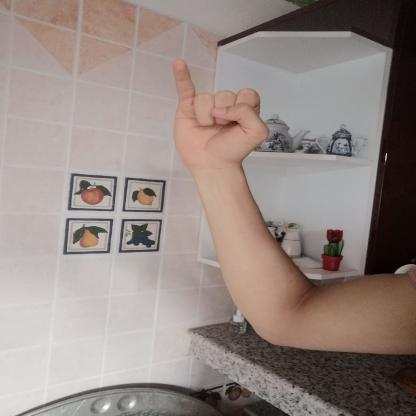MEEM: (158, 49, 278, 172)
